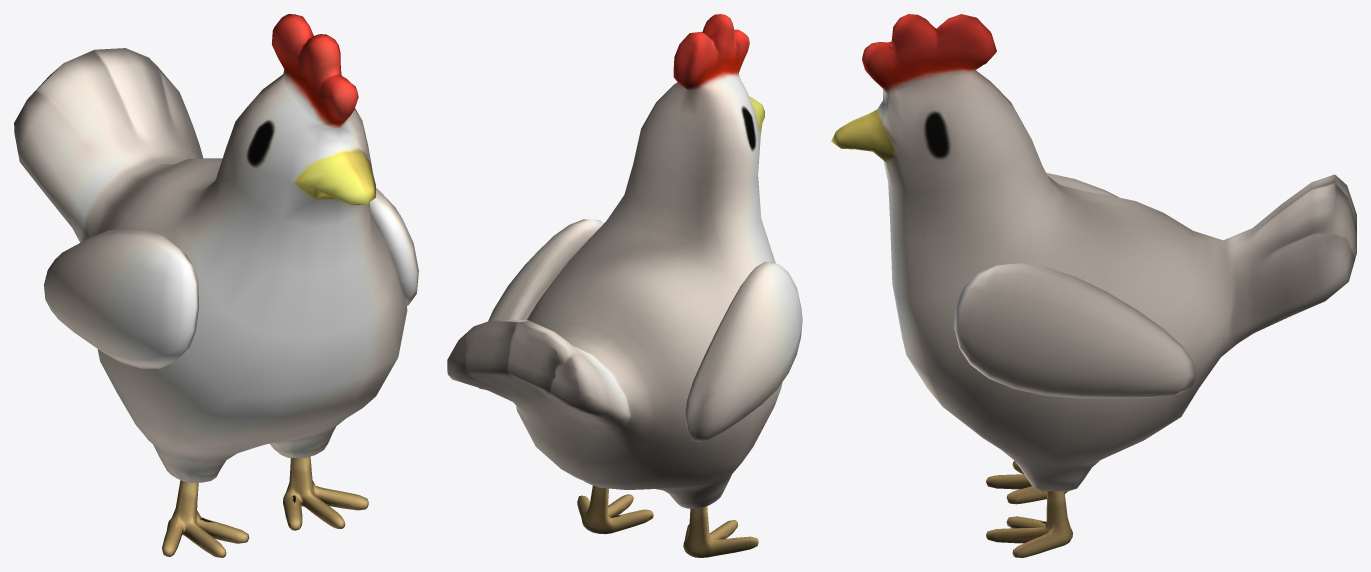
The model's file is Chicken-Poly.fbx.
3 renders of one model, left to right at view 1: azimuth 30°, elevation 25°; view 2: azimuth 150°, elevation 25°; view 3: azimuth 270°, elevation 25°, orthographic. The views are drawn at different scales.
Parts seen in each view (by area): view 1: Chicken-Poly-Low; view 2: Chicken-Poly-Low; view 3: Chicken-Poly-Low.
Part boxes in pixels (x1,y1,x2,y2): Chicken-Poly-Low: [14, 14, 418, 557]; Chicken-Poly-Low: [447, 14, 802, 557]; Chicken-Poly-Low: [831, 14, 1356, 557].
Size of the model in its own units: 16.79 by 29.54 by 28.02.
